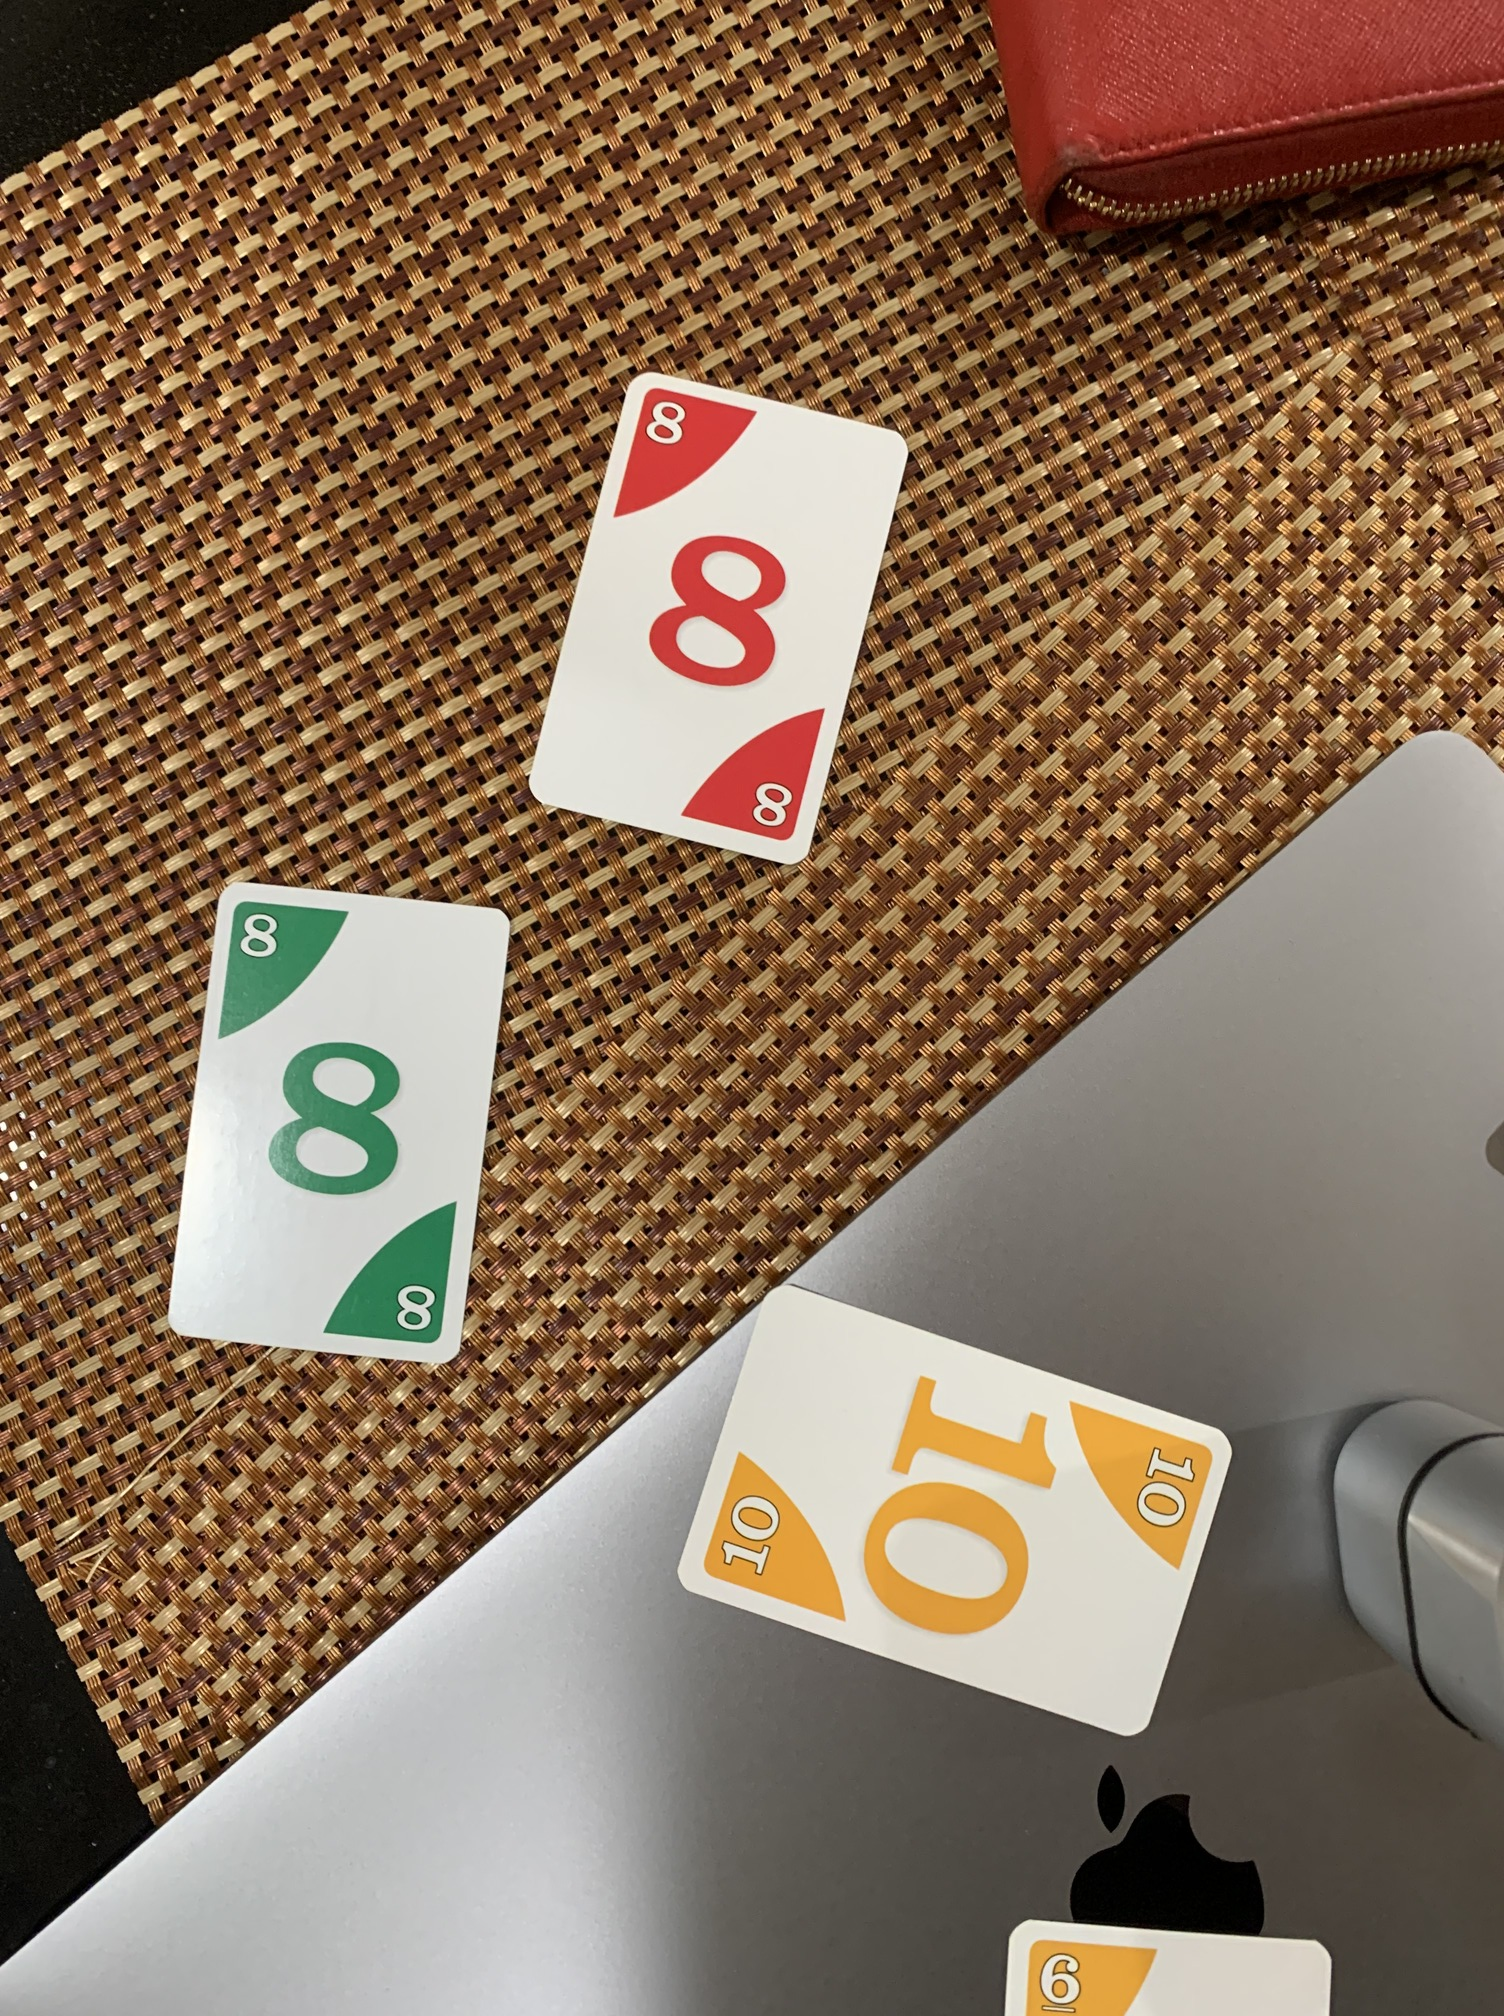eight: (528, 363, 919, 880), (156, 872, 520, 1375)
ten: (667, 1284, 1229, 1746)
